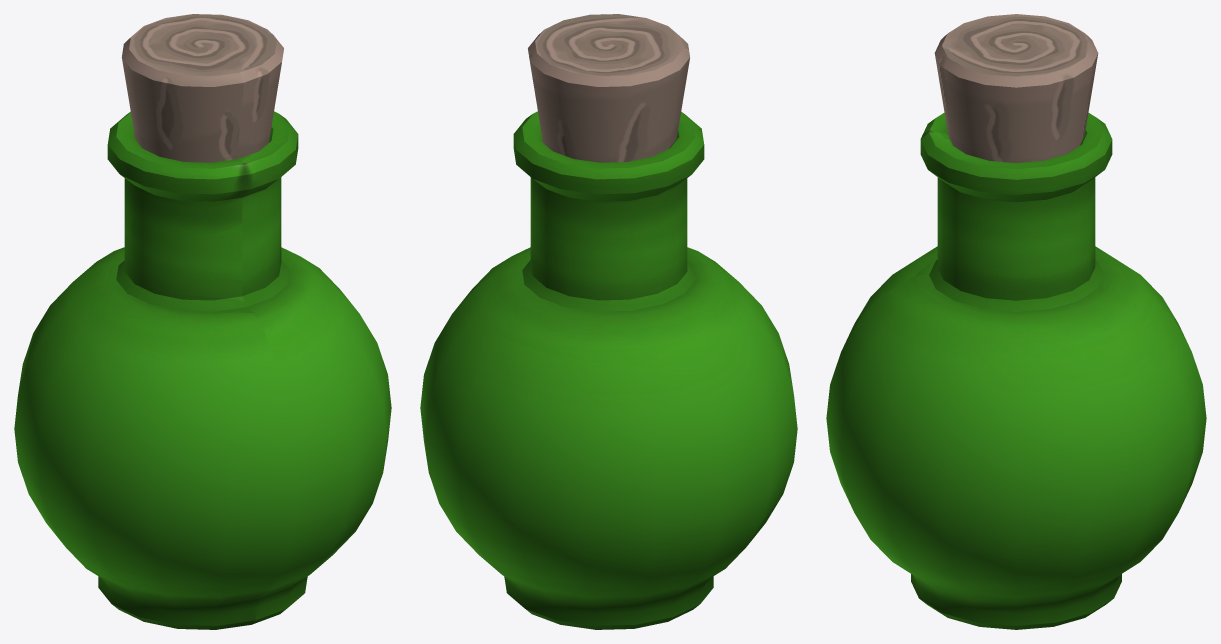
File: GreenPotion.fbx
3 views of the same model, side by side, from view 1: azimuth 30°, elevation 25°; view 2: azimuth 150°, elevation 25°; view 3: azimuth 270°, elevation 25° (orthographic).
Parts seen in each view (by area): view 1: GreenPotion; view 2: GreenPotion; view 3: GreenPotion.
Part boxes in pixels (bbox=[...]): GreenPotion: bbox=[14, 14, 391, 629]; GreenPotion: bbox=[420, 14, 797, 629]; GreenPotion: bbox=[826, 14, 1206, 629].
Size of the model in its own units: 40 by 40 by 63.09.
Materials: 1 (1 with a texture image).
